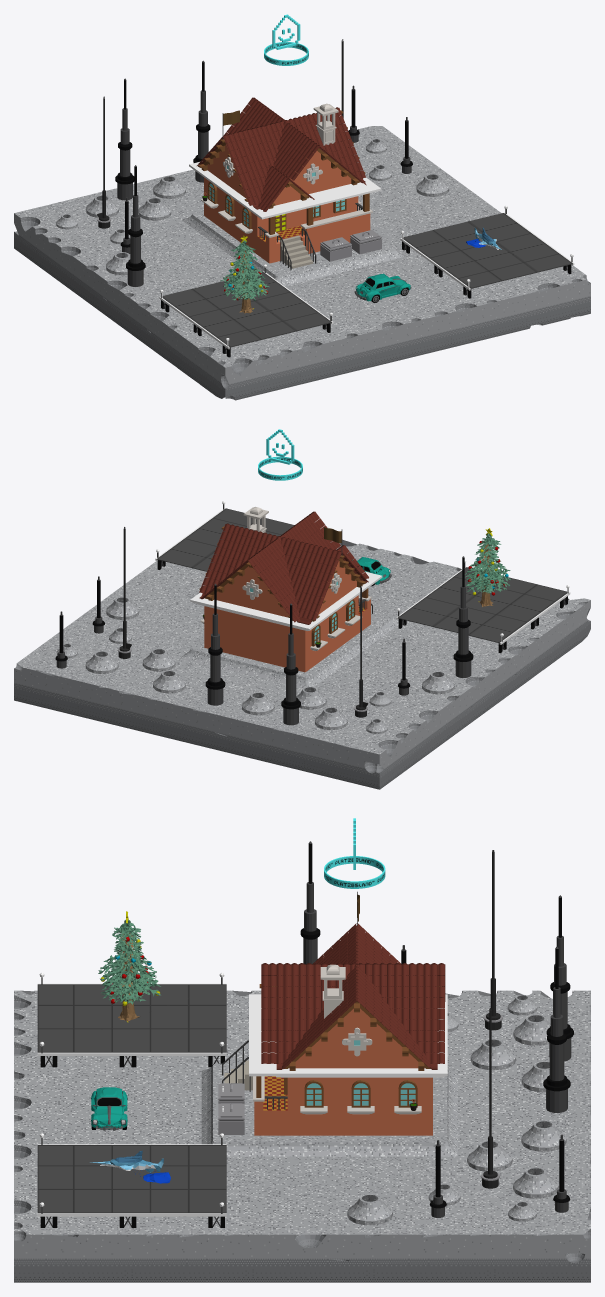
3 renders of one model, top to bottom at view 1: azimuth 30°, elevation 25°; view 2: azimuth 150°, elevation 25°; view 3: azimuth 270°, elevation 25°, orthographic. The views are drawn at different scales.
Visible parts, largest first — view 1: Cube.027, Cube.1141, Cube.026, Cube.025, Cube.028, OBJRANDOM_CHRISTMAS_TREE, Cylinder.021, Cylinder.020, VEHICLES_VOLKSWAGEN, TYPE_PREMIUM, Cylinder.017, Cube.029 (+4 smaller); view 2: Cube.027, Cube.1141, Cube.025, Cube.028, Cube.026, OBJRANDOM_CHRISTMAS_TREE, Cylinder.017, Cylinder.021, Cylinder.020, TYPE_PREMIUM, Cylinder.030, Cylinder.029 (+8 smaller); view 3: Cube.027, Cube.1141, Cube.026, Cube.025, Cube.028, OBJRANDOM_CHRISTMAS_TREE, Cylinder.017, VEHICLES_VOLKSWAGEN, Cylinder.020, Cylinder.021, TYPE_PREMIUM, Cylinder.033 (+12 smaller).
Part boxes in pixels (bbox=[...]): Cube.027: bbox=[14, 126, 590, 400]; Cube.1141: bbox=[189, 97, 381, 269]; Cube.026: bbox=[400, 205, 574, 298]; Cube.025: bbox=[159, 264, 333, 357]; Cube.028: bbox=[182, 211, 403, 286]; OBJRANDOM_CHRISTMAS_TREE: bbox=[220, 235, 269, 313]; Cylinder.021: bbox=[126, 165, 145, 286]; Cylinder.020: bbox=[115, 78, 134, 200]; VEHICLES_VOLKSWAGEN: bbox=[354, 273, 410, 302]; TYPE_PREMIUM: bbox=[264, 14, 308, 65]; Cylinder.017: bbox=[193, 60, 210, 182]; Cube.029: bbox=[320, 237, 351, 261]; Cube.027: bbox=[14, 539, 590, 789]; Cube.1141: bbox=[190, 507, 382, 672]; Cube.025: bbox=[396, 560, 570, 653]; Cube.028: bbox=[181, 610, 398, 688]; Cube.026: bbox=[155, 501, 328, 571]; OBJRANDOM_CHRISTMAS_TREE: bbox=[464, 528, 510, 606]; Cylinder.017: bbox=[205, 583, 225, 705]; Cylinder.021: bbox=[453, 556, 473, 677]; Cylinder.020: bbox=[281, 603, 300, 725]; TYPE_PREMIUM: bbox=[258, 429, 302, 480]; Cylinder.030: bbox=[142, 648, 175, 671]; Cylinder.029: bbox=[153, 670, 185, 693]; Cube.027: bbox=[14, 990, 590, 1282]; Cube.1141: bbox=[222, 891, 447, 1135]; Cube.026: bbox=[37, 1133, 226, 1227]; Cube.025: bbox=[37, 973, 226, 1067]; Cube.028: bbox=[201, 1063, 457, 1156]; OBJRANDOM_CHRISTMAS_TREE: bbox=[98, 911, 160, 1022]; Cylinder.017: bbox=[543, 946, 570, 1112]; VEHICLES_VOLKSWAGEN: bbox=[91, 1087, 127, 1130]; Cylinder.020: bbox=[546, 895, 573, 1061]; Cylinder.021: bbox=[300, 841, 320, 964]; TYPE_PREMIUM: bbox=[324, 818, 385, 888]; Cylinder.033: bbox=[347, 1194, 392, 1225].
Bounding box in the file's own units: 4000 × 2726 × 4000.
Materials: 46 (6 with a texture image).
